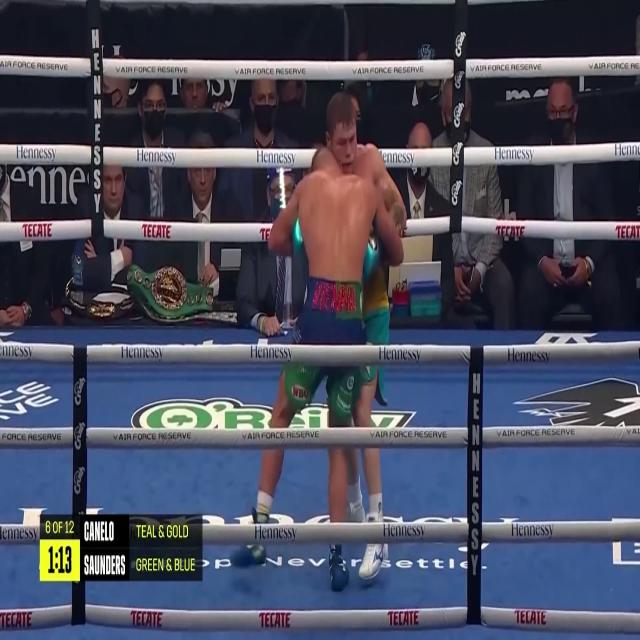boxer_1: (298, 149, 376, 283)
boxer_2: (326, 94, 378, 185)
gloves_2: (365, 238, 379, 274), (293, 218, 302, 251)
